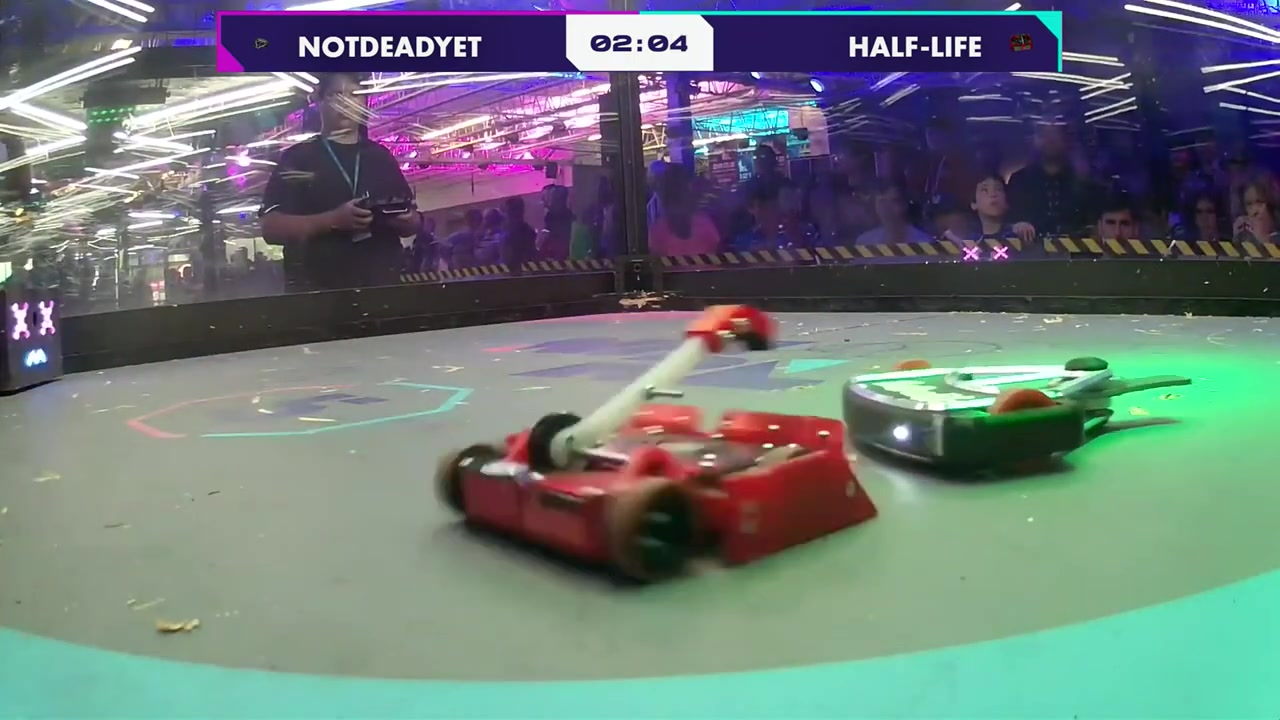combatbot: (438, 413, 874, 592), (848, 358, 1115, 480)
housebot: (0, 289, 66, 399)
